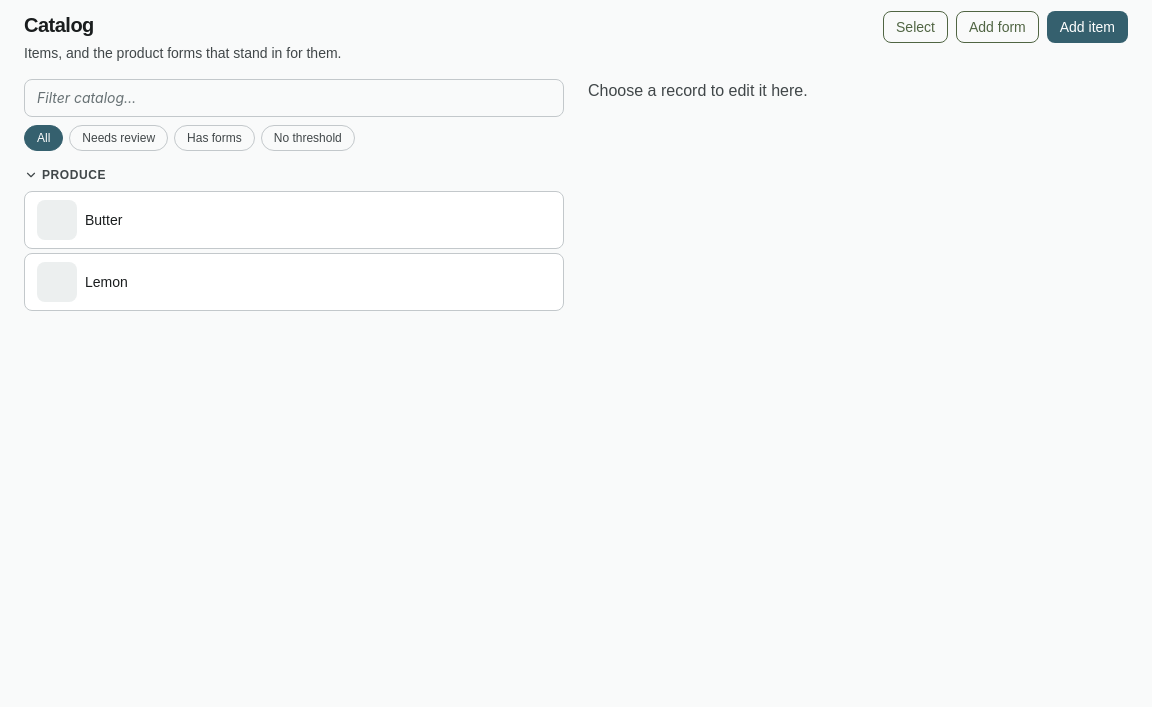
Test case: CatalogPage — the docked-pane media query, failure paths (#933) › matches: true, full listener API — docks beside the list (the positive control every other row depends on)
Click the button with test id "catalog-row-name-wide" showing "Lemon": (106, 282) x1=85 y1=272 x2=551 y2=292
(page scrolled)
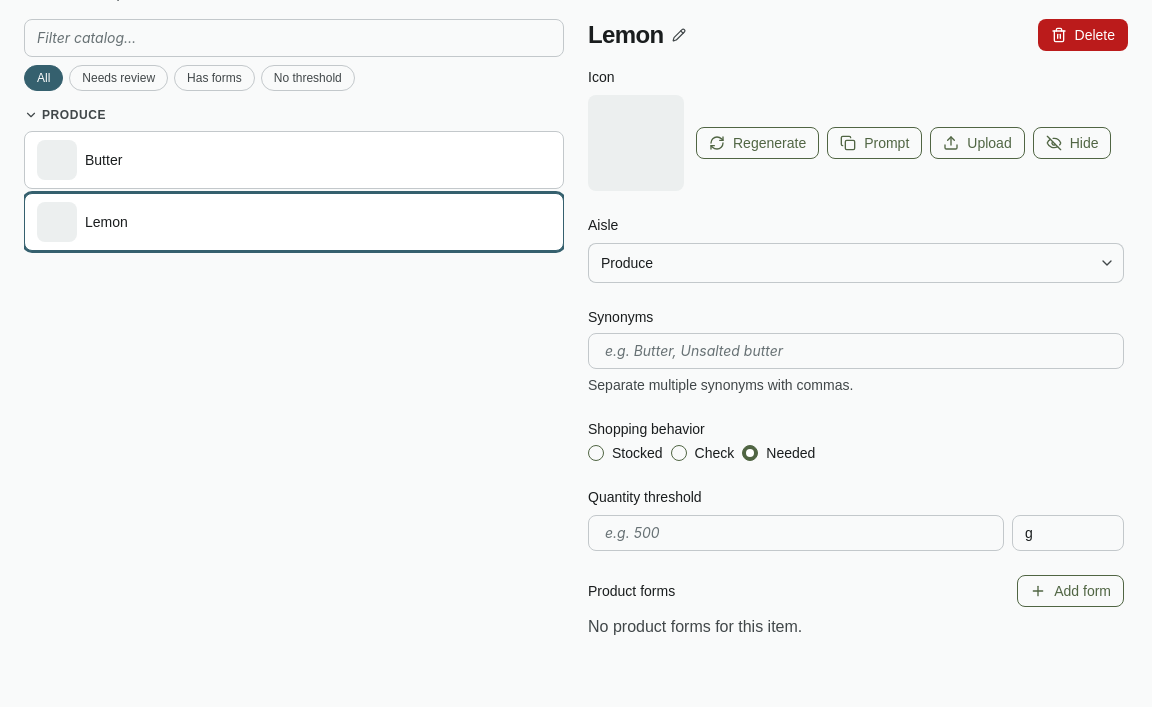
Check: the element with test id "catalog-record-pane" is shown, box x1=588 y1=19 x2=1128 y2=683
